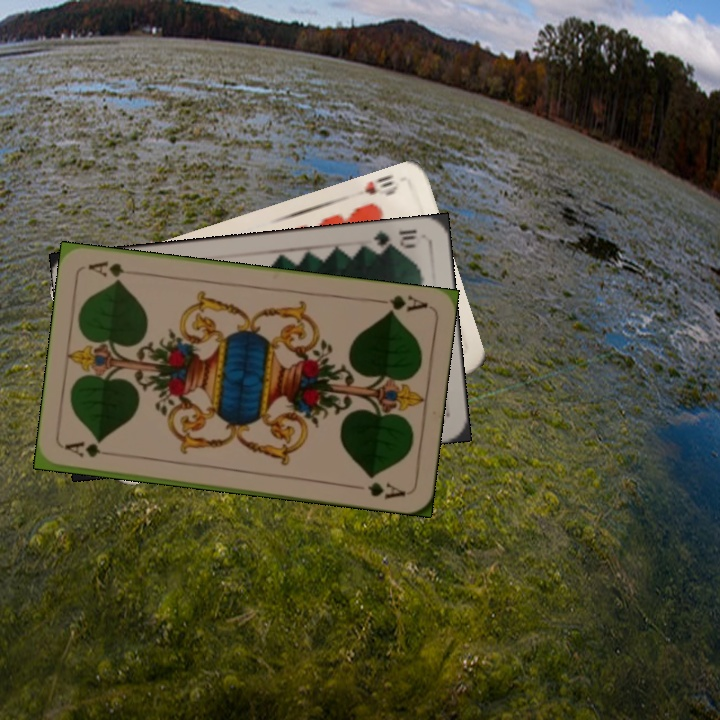G10: (369, 225, 420, 254)
GA: (371, 291, 431, 317), (61, 438, 120, 460)
H10: (360, 170, 401, 199)
